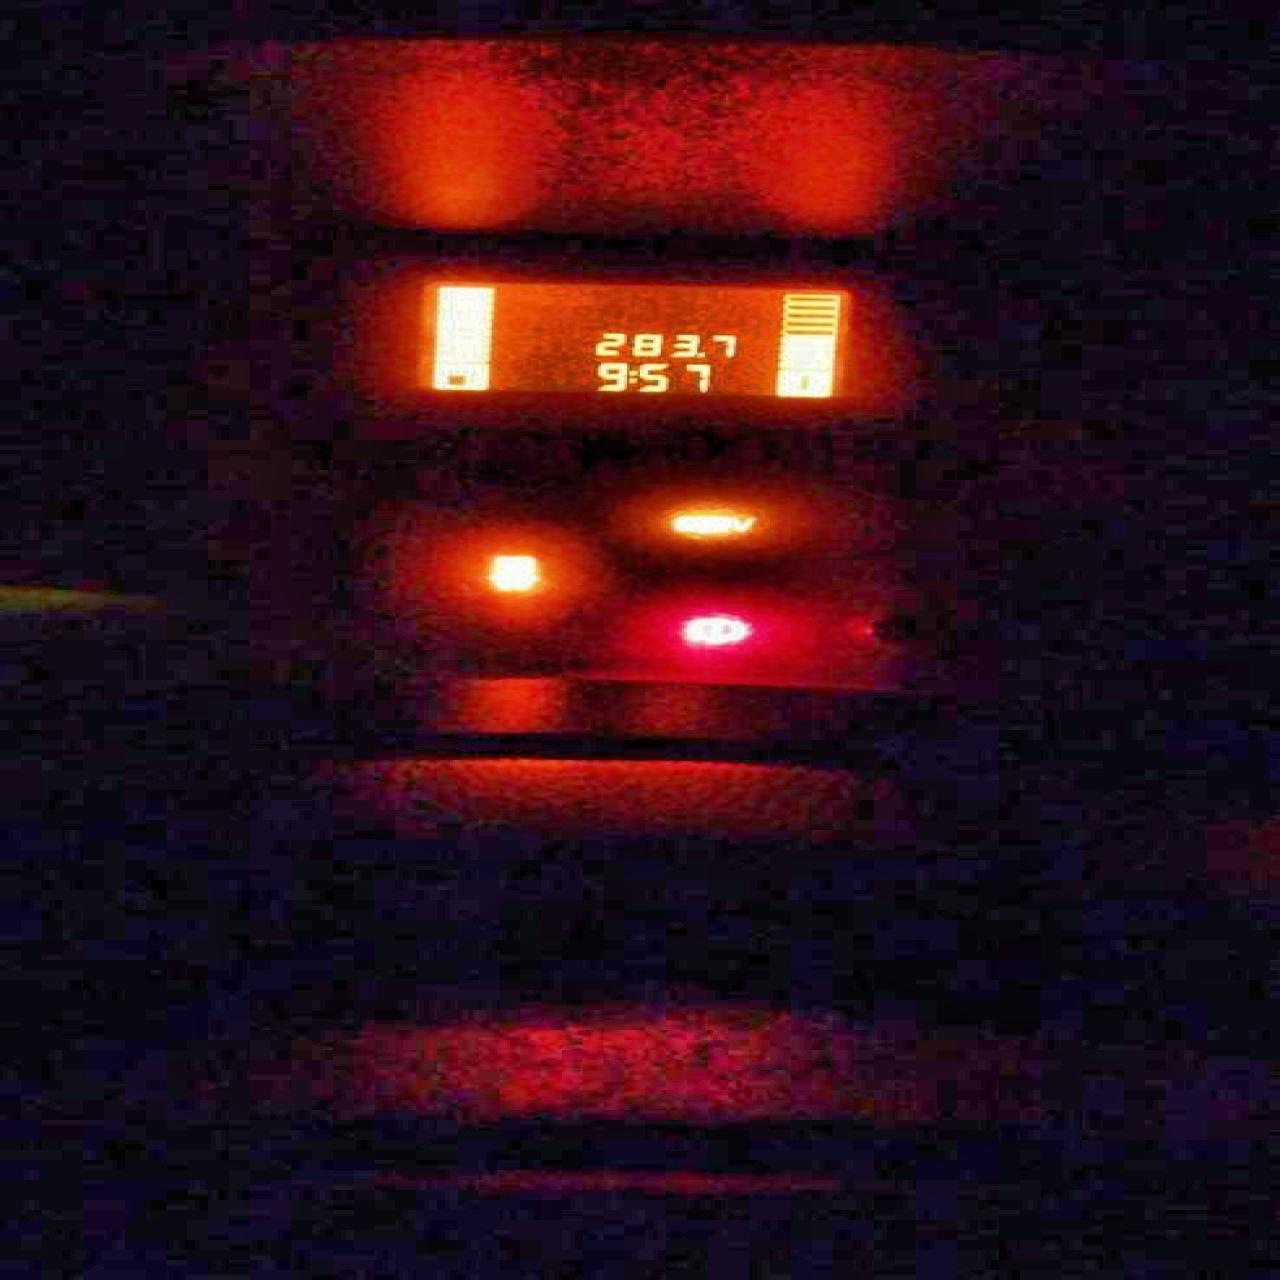-: (695, 352, 706, 358)
2: (591, 331, 625, 355)
3: (669, 332, 697, 358)
5: (638, 361, 668, 393)
7: (679, 360, 710, 393), (704, 332, 736, 358)
8: (627, 332, 661, 356)
9: (591, 360, 625, 392)
X: (625, 368, 635, 383)
odometer: (399, 274, 864, 401)
